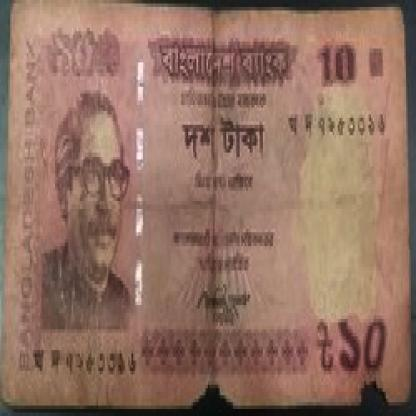Ten Taka: (328, 294, 406, 385), (47, 10, 123, 87), (306, 24, 366, 97)
